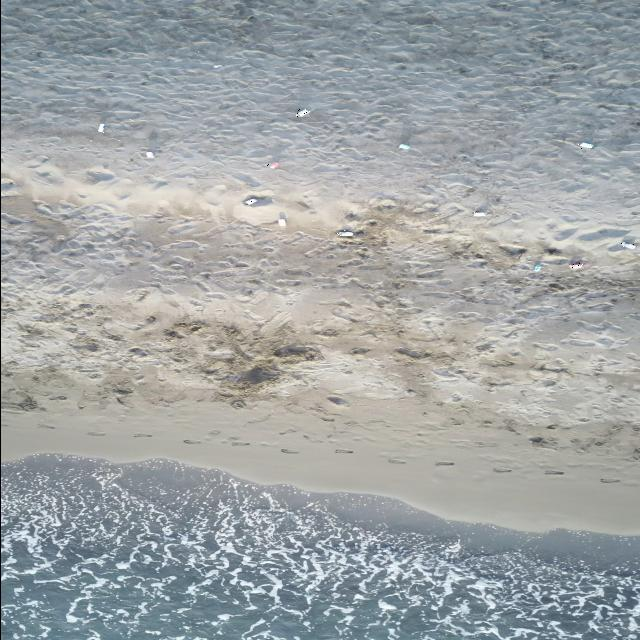Garbage: (243, 196, 272, 204), (336, 228, 353, 236), (568, 260, 583, 268), (278, 212, 286, 226), (472, 209, 486, 216), (296, 108, 308, 116), (243, 196, 256, 203), (280, 447, 298, 452), (620, 241, 635, 247), (267, 160, 279, 167), (580, 141, 591, 148), (532, 261, 540, 270), (145, 151, 154, 158), (397, 143, 409, 148), (98, 123, 103, 131), (212, 64, 220, 67)
